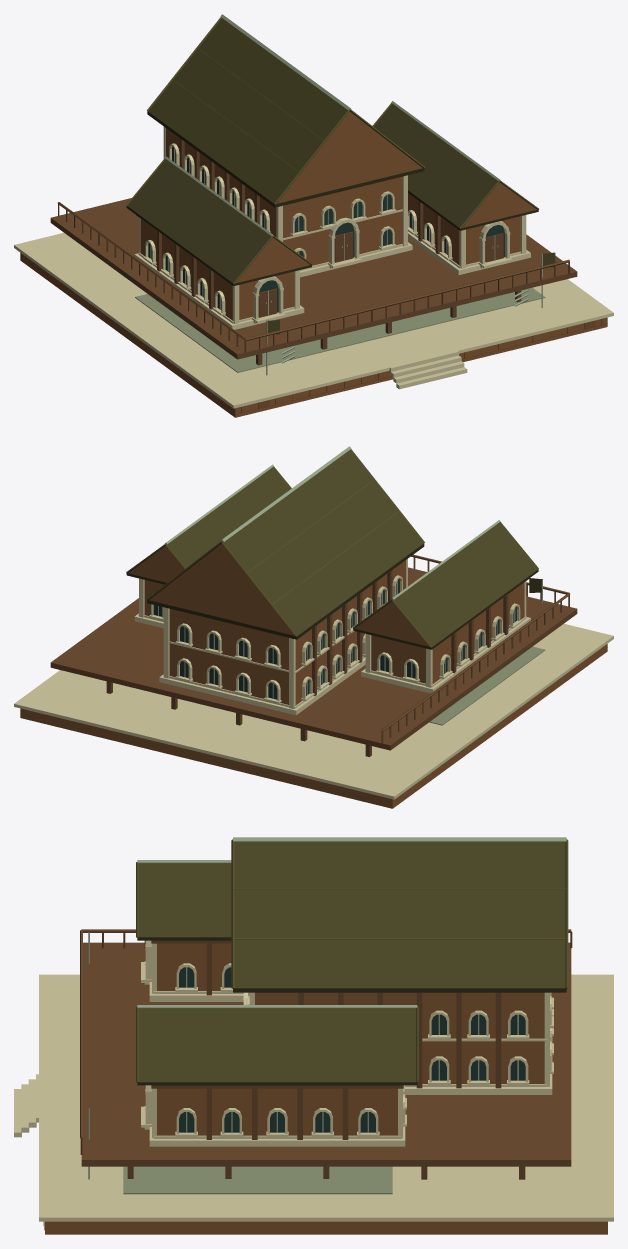
Rendered from delta.glb.
The picture shows the model from 3 angles, top to bottom: view 1: azimuth 30°, elevation 25°; view 2: azimuth 150°, elevation 25°; view 3: azimuth 270°, elevation 25°; orthographic projection. The views are drawn at different scales.
Visible parts, largest first — view 1: tidal-hall, tidal-hall-roof, precinct-base, inhabited-detail; view 2: tidal-hall, tidal-hall-roof, precinct-base; view 3: tidal-hall-roof, tidal-hall, precinct-base, inhabited-detail.
Boxes of the visible parts, left/top/right/bottom form: tidal-hall: left=50, top=126, right=577, bottom=365; tidal-hall-roof: left=126, top=14, right=538, bottom=285; precinct-base: left=14, top=233, right=613, bottom=417; inhabited-detail: left=235, top=252, right=607, bottom=414; tidal-hall: left=50, top=554, right=577, bottom=756; tidal-hall-roof: left=126, top=446, right=538, bottom=649; precinct-base: left=14, top=623, right=613, bottom=808; tidal-hall-roof: left=136, top=837, right=568, bottom=1085; tidal-hall: left=80, top=929, right=572, bottom=1179; precinct-base: left=39, top=974, right=613, bottom=1234; inhabited-detail: left=14, top=932, right=89, bottom=1230.
Size of the model in its own units: 23.5 by 12.55 by 24.52.
